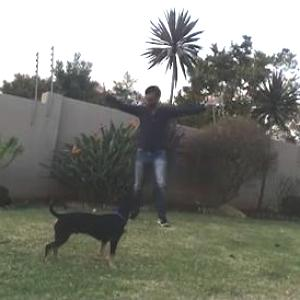takeoff: (99, 84, 226, 216)
